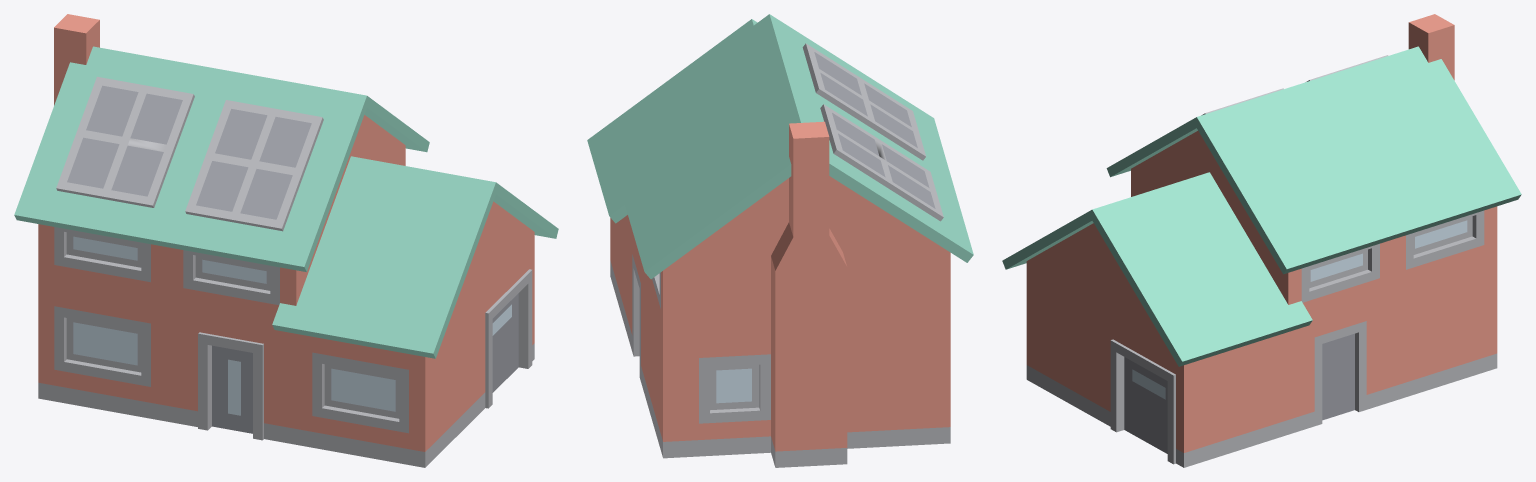
The model's file is building.glb.
The picture shows the model from 3 angles, left to right: view 1: azimuth 30°, elevation 25°; view 2: azimuth 150°, elevation 25°; view 3: azimuth 270°, elevation 25°; orthographic projection. The views are drawn at different scales.
Visible parts, largest first — view 1: house_type13; view 2: house_type13; view 3: house_type13.
Part boxes in pixels (x1,y1,x2,y2): house_type13: [14, 14, 558, 467]; house_type13: [587, 14, 973, 467]; house_type13: [1002, 14, 1521, 467].
Size of the model in its own units: 2.09 by 1.38 by 2.19.
